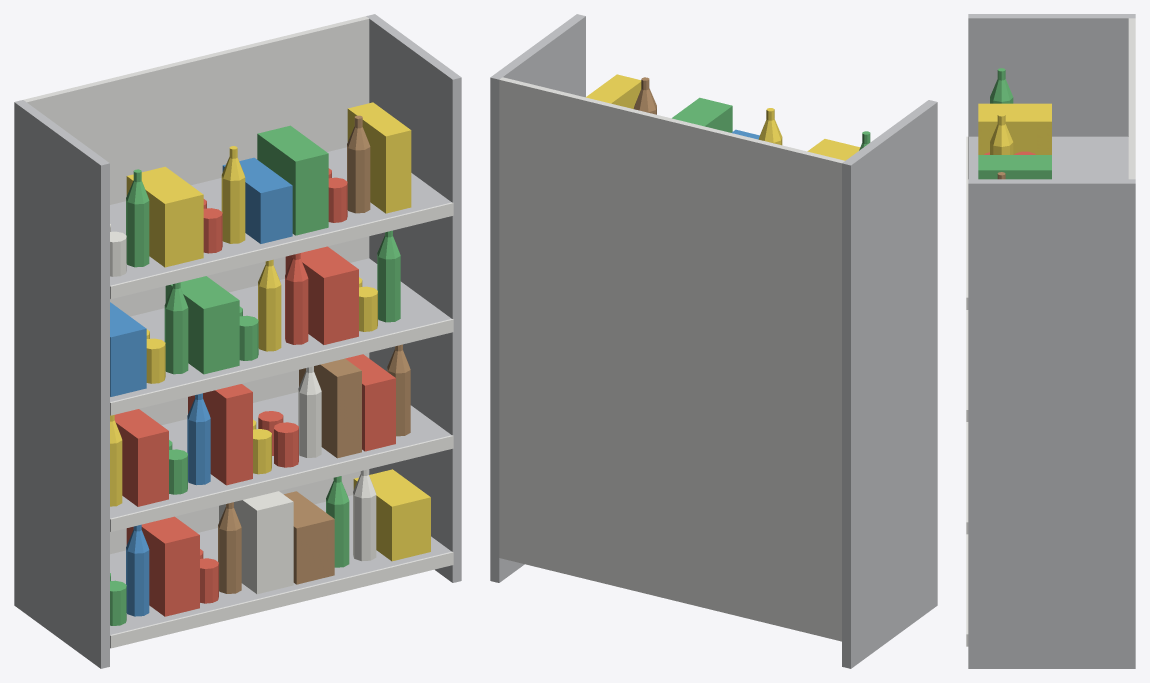
File: shop_shelf.glb
3 views of the same model, side by side, from view 1: azimuth 30°, elevation 25°; view 2: azimuth 150°, elevation 25°; view 3: azimuth 270°, elevation 25° (orthographic). The views are drawn at different scales.
Visible parts, largest first — view 1: shop_shelf; view 2: shop_shelf; view 3: shop_shelf.
Part boxes in pixels (box(x1,y1,x2,y2)): shop_shelf: box(14, 14, 461, 668); shop_shelf: box(490, 14, 937, 668); shop_shelf: box(966, 14, 1135, 668).
Size of the model in its own units: 1.2 by 1.6 by 0.505.
